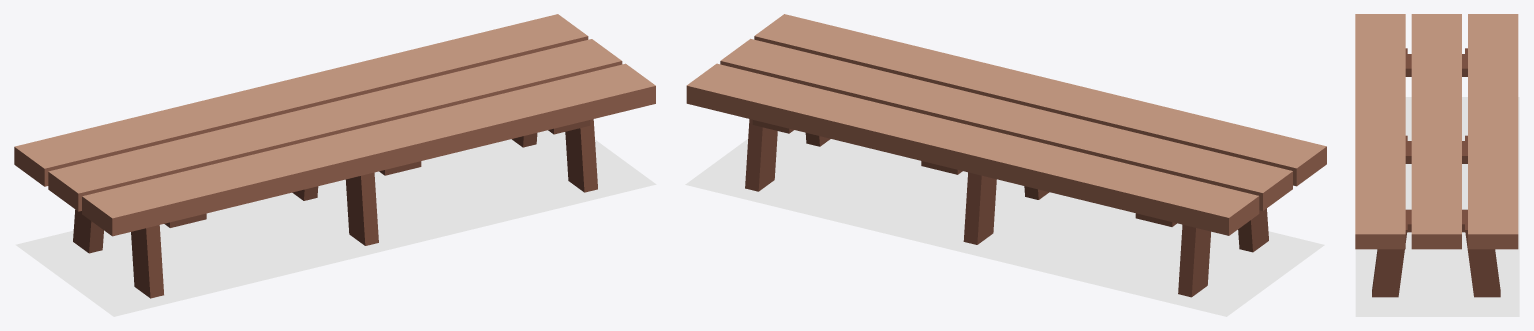
Rendered from table01.fbx.
3 renders of one model, left to right at view 1: azimuth 30°, elevation 25°; view 2: azimuth 150°, elevation 25°; view 3: azimuth 270°, elevation 25°, orthographic. The views are drawn at different scales.
Visible parts, largest first — view 1: table01; view 2: table01; view 3: table01.
Part boxes in pixels (left/top/right/bottom): table01: left=14, top=14, right=656, bottom=316; table01: left=685, top=14, right=1326, bottom=316; table01: left=1355, top=14, right=1519, bottom=316.
Size of the model in its own units: 210 by 36.72 by 66.08.
Materials: 2 (1 with a texture image).
